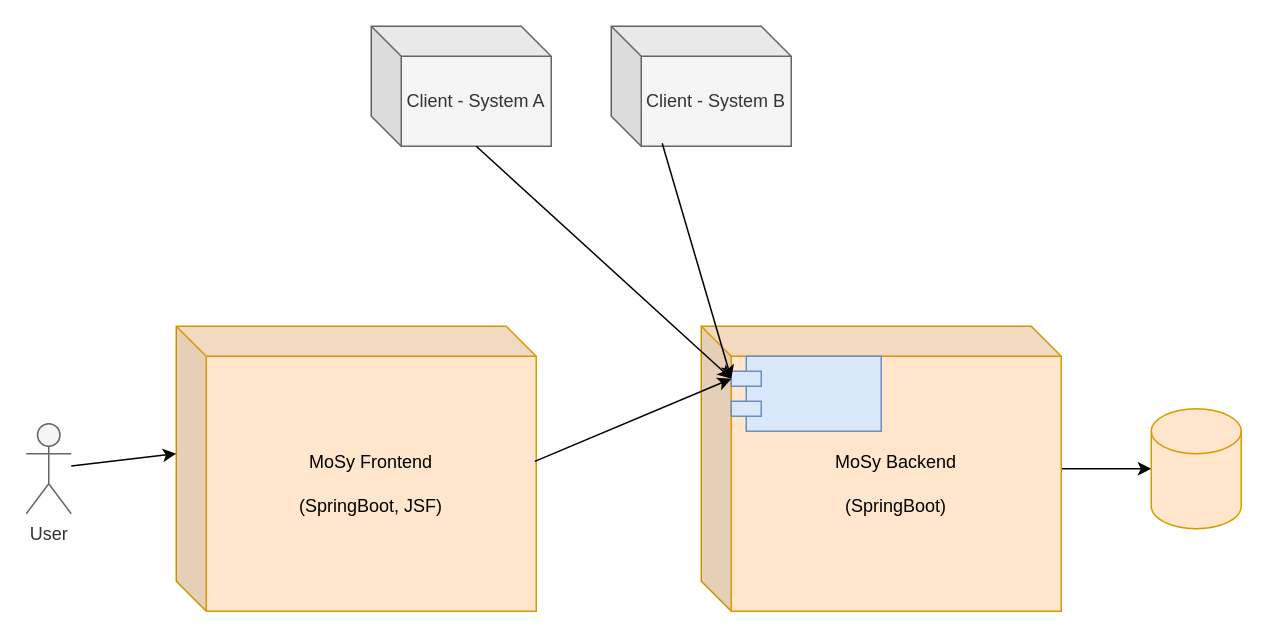
The diagram is 1268 pixels wide and 638 high, and some of its shapes have lost their labels. The shapes that lost their labels are listed below. From the top down, each one's centre as x and y in pixels, then its label:
At pixel 805 393: "REST API".
At pixel 1195 468: "H2 DB".
